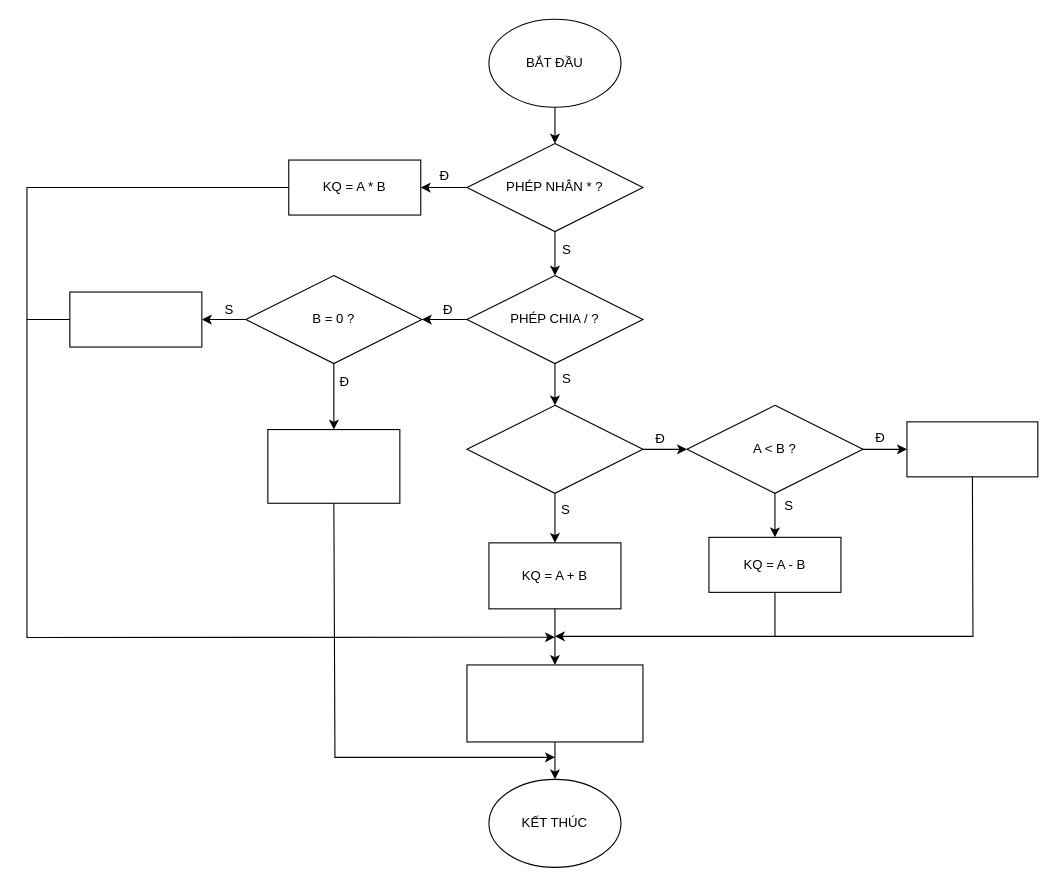
Image size: 1057x887. Some labels were removed from this diagram. The shapes that lost their labels are listed below. From the top down, each one's centre as x and y in pixels, then its label:
[135,319]: KQ = A / B
[333,465]: XÓA MÀN HÌNH, HIỂN THỊ LỖI, DELAY 500ms, XÓA MÀN HÌNH
[554,448]: PHÉP TRỪ - ?
[972,449]: GÁN negative = 'Y' KQ = B - A
[554,703]: IN KẾT QUẢ RA LCD, DELAY 1s, XÓA MÀN HÌNH
